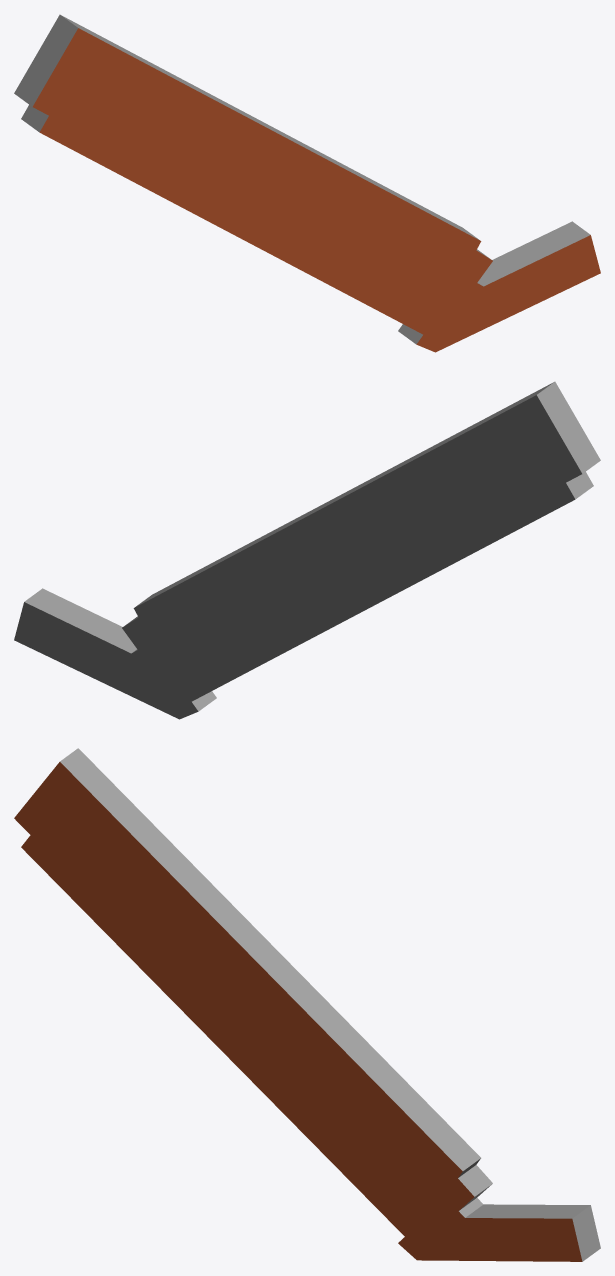
Rendered from construction_3606_assumed_A_Casa_h6m.obj.
The picture shows the model from 3 angles, top to bottom: view 1: azimuth 30°, elevation 25°; view 2: azimuth 150°, elevation 25°; view 3: azimuth 330°, elevation 25°; orthographic projection.
Visible parts, largest first — view 1: construction_3606_assumed_A_Casa; view 2: construction_3606_assumed_A_Casa; view 3: construction_3606_assumed_A_Casa.
Part boxes in pixels (<box>): construction_3606_assumed_A_Casa: <box>14,14,600,352</box>; construction_3606_assumed_A_Casa: <box>14,381,600,719</box>; construction_3606_assumed_A_Casa: <box>14,748,600,1261</box>.
Bounding box in the file's own units: 106 × 73.6 × 6.
